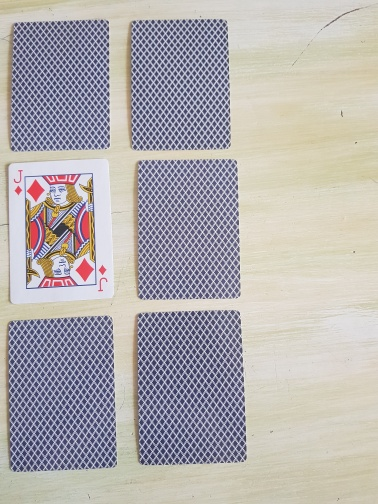jack: (7, 158, 115, 306)
